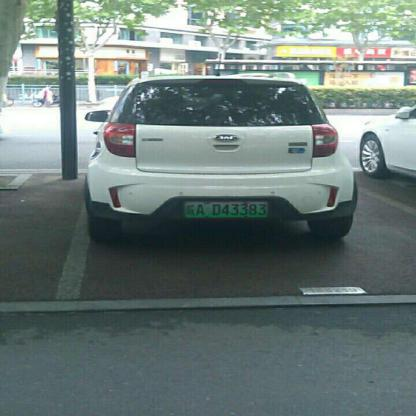lp: (182, 201, 269, 217)
